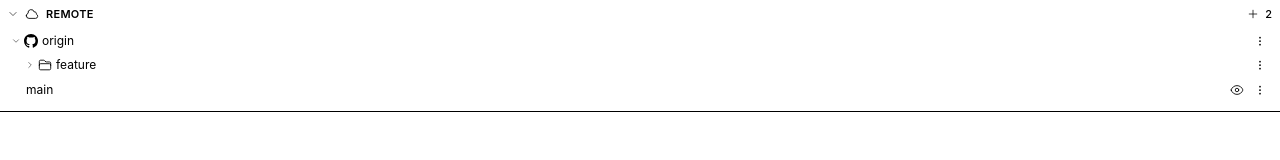
Test case: RemoteBranchesSection › nests slash-separated remote branches into folders and shows forge icon on the remote only
Expected: the element titled "GitHub" is shown, [24,34,38,48]
Expected: the button "login" is not shown
Click the button "feature" at (76, 64), box [56,56,1248,72]
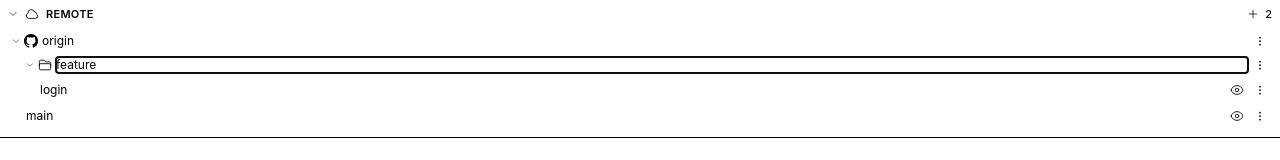
Expected: the button "main" is shown, [26,108,1222,124]
Expected: the button "login" is shown, [40,82,1222,98]
